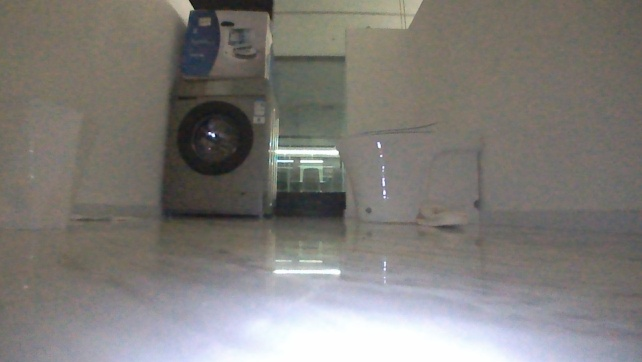shoe: (410, 197, 470, 229)
toilet: (328, 118, 490, 231)
trash_can: (1, 88, 84, 242)
washing_machine: (159, 71, 281, 226)
